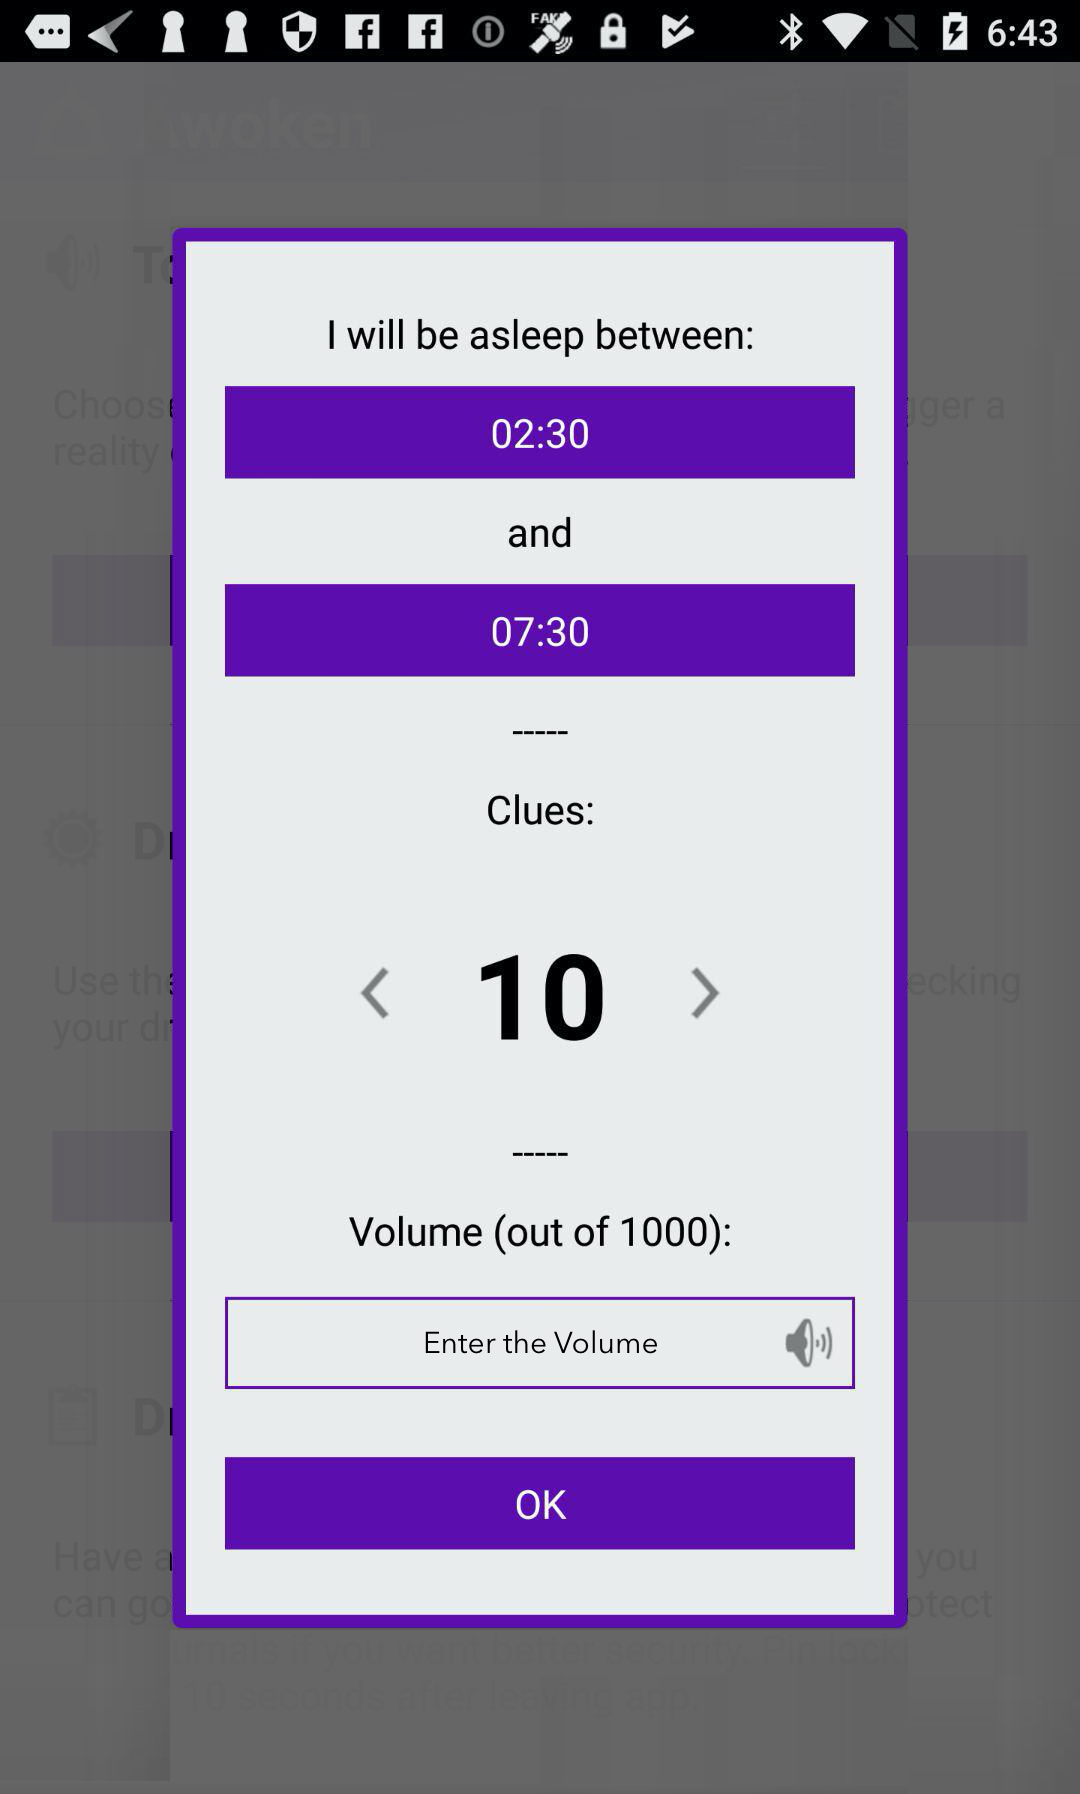EditText: (225, 1297, 856, 1390)
Icon: (360, 967, 392, 1017), (691, 967, 720, 1019)
Modal: (173, 227, 910, 1629)
Text: (329, 319, 755, 358), (348, 1214, 732, 1255), (482, 955, 605, 1041), (488, 794, 593, 827), (510, 516, 571, 548)
TextButton: (225, 386, 855, 481), (225, 1457, 855, 1551), (225, 586, 855, 677)
UpperTaskBar: (1, 1, 1080, 64)
